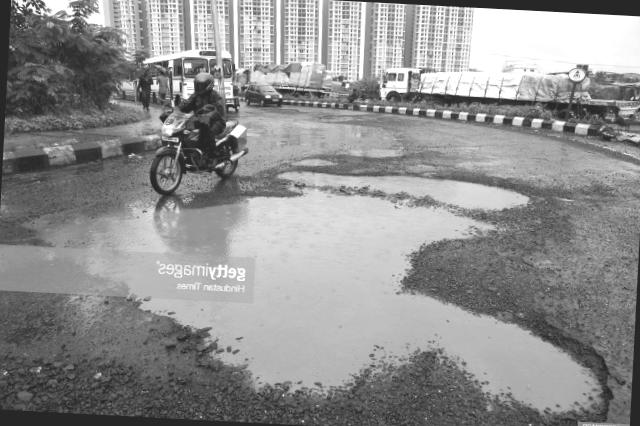Pothole: (3, 153, 618, 426)
